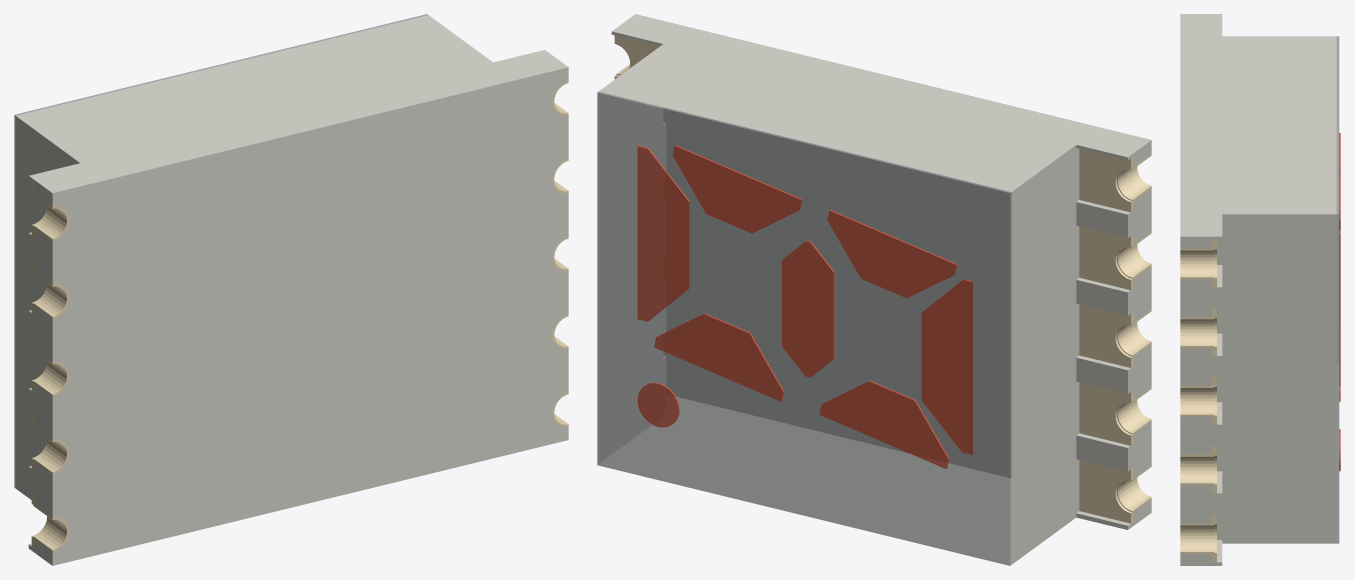
Rendered from KCSC02-105.glb.
3 renders of one model, left to right at view 1: azimuth 30°, elevation 25°; view 2: azimuth 150°, elevation 25°; view 3: azimuth 270°, elevation 25°, orthographic. The views are drawn at different scales.
Visible parts, largest first — view 1: Shape_IndexedFaceSet.017, Shape_IndexedFaceSet.002, Shape_IndexedFaceSet.001, Shape_IndexedFaceSet.087, Shape_IndexedFaceSet.032, Shape_IndexedFaceSet.036, Shape_IndexedFaceSet.044, Shape_IndexedFaceSet.040, Shape_IndexedFaceSet.006; view 2: Shape_IndexedFaceSet.087, Shape_IndexedFaceSet.017, Shape_IndexedFaceSet.002, Shape_IndexedFaceSet.005, Shape_IndexedFaceSet.001, Shape_IndexedFaceSet.019, Shape_IndexedFaceSet.283, Shape_IndexedFaceSet.278, Shape_IndexedFaceSet.279, Shape_IndexedFaceSet.281, Shape_IndexedFaceSet.282, Shape_IndexedFaceSet.277 (+21 smaller); view 3: Shape_IndexedFaceSet.002, Shape_IndexedFaceSet.019, Shape_IndexedFaceSet.070, Shape_IndexedFaceSet.068, Shape_IndexedFaceSet.064, Shape_IndexedFaceSet.066, Shape_IndexedFaceSet.072, Shape_IndexedFaceSet.049, Shape_IndexedFaceSet.053, Shape_IndexedFaceSet.055, Shape_IndexedFaceSet.051, Shape_IndexedFaceSet.063 (+18 smaller).
Part boxes in pixels (bbox=[...]): Shape_IndexedFaceSet.017: bbox=[52, 67, 568, 565]; Shape_IndexedFaceSet.002: bbox=[16, 15, 568, 193]; Shape_IndexedFaceSet.001: bbox=[15, 116, 79, 499]; Shape_IndexedFaceSet.087: bbox=[14, 14, 426, 486]; Shape_IndexedFaceSet.032: bbox=[28, 228, 52, 284]; Shape_IndexedFaceSet.036: bbox=[28, 306, 52, 361]; Shape_IndexedFaceSet.044: bbox=[28, 462, 52, 517]; Shape_IndexedFaceSet.040: bbox=[28, 384, 52, 439]; Shape_IndexedFaceSet.006: bbox=[14, 115, 15, 487]; Shape_IndexedFaceSet.087: bbox=[597, 93, 1010, 565]; Shape_IndexedFaceSet.017: bbox=[663, 107, 1011, 477]; Shape_IndexedFaceSet.002: bbox=[599, 14, 1151, 191]; Shape_IndexedFaceSet.005: bbox=[599, 397, 1011, 564]; Shape_IndexedFaceSet.001: bbox=[1011, 145, 1076, 564]; Shape_IndexedFaceSet.019: bbox=[599, 92, 662, 463]; Shape_IndexedFaceSet.283: bbox=[637, 146, 689, 321]; Shape_IndexedFaceSet.278: bbox=[921, 280, 972, 454]; Shape_IndexedFaceSet.279: bbox=[782, 241, 833, 377]; Shape_IndexedFaceSet.281: bbox=[654, 314, 782, 401]; Shape_IndexedFaceSet.282: bbox=[672, 145, 801, 233]; Shape_IndexedFaceSet.277: bbox=[827, 210, 956, 298]; Shape_IndexedFaceSet.002: bbox=[1180, 14, 1336, 236]; Shape_IndexedFaceSet.019: bbox=[1222, 214, 1336, 543]; Shape_IndexedFaceSet.070: bbox=[1222, 423, 1264, 471]; Shape_IndexedFaceSet.068: bbox=[1222, 354, 1264, 402]; Shape_IndexedFaceSet.064: bbox=[1222, 217, 1264, 264]; Shape_IndexedFaceSet.066: bbox=[1222, 286, 1264, 333]; Shape_IndexedFaceSet.072: bbox=[1222, 492, 1264, 539]; Shape_IndexedFaceSet.049: bbox=[1180, 279, 1222, 317]; Shape_IndexedFaceSet.053: bbox=[1180, 416, 1222, 454]; Shape_IndexedFaceSet.055: bbox=[1180, 485, 1222, 523]; Shape_IndexedFaceSet.051: bbox=[1180, 348, 1222, 385]; Shape_IndexedFaceSet.063: bbox=[1336, 214, 1338, 543].
Bounding box in the file's own units: 3.94 × 2.72 × 1.2.
